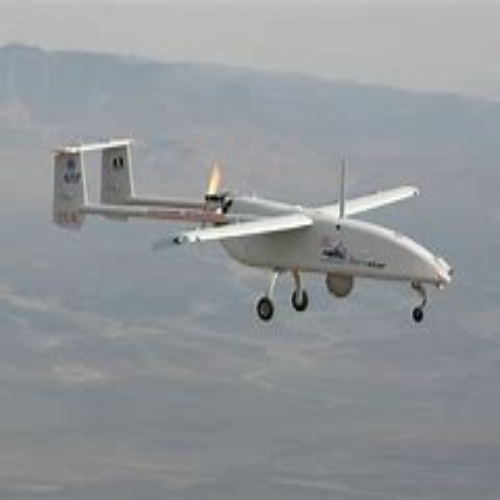uav: (48, 136, 455, 330)
